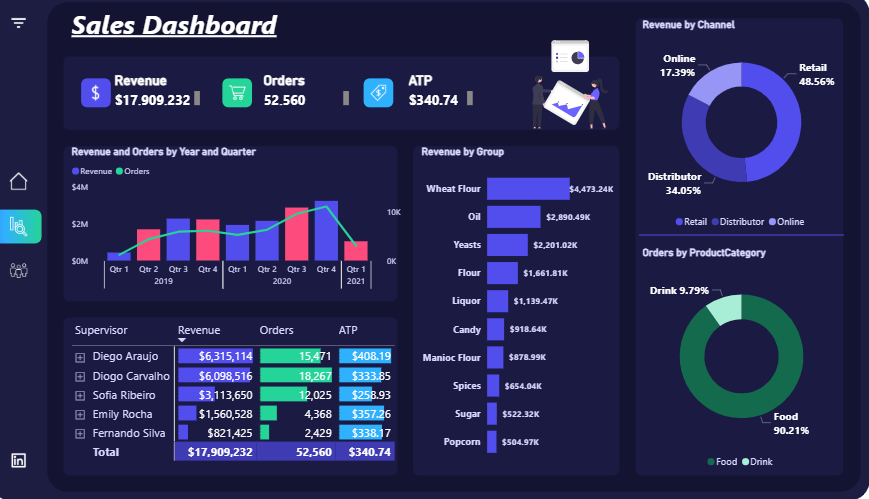

Layout of this report page (visuals, bound fields, positions):
{"tool":"powerbi","page":{"name":"Sales","canvas":[1280,720],"ordinal":0},"visuals":[{"type":"multiRowCard","title":"Revenue","fields":{"Values":["measuer.Revenue"]},"box":[204.9,112.5,131,52.1],"z":0},{"type":"multiRowCard","title":"Orders","fields":{"Values":["measuer.Orders"]},"box":[416.6,112.5,131,52.1],"z":1000},{"type":"multiRowCard","title":"ATP","fields":{"Values":["measuer.ATP"]},"box":[621.5,112.5,100.8,52.1],"z":2000},{"type":"lineClusteredColumnComboChart","fields":{"Category":["dCalen.Date.Variation.Date Hierarchy.Year","dCalen.Date.Variation.Date Hierarchy.Quarter"],"Y":["measuer.Revenue"],"Y2":["measuer.Orders"]},"box":[144.5,216.7,477.1,213.3],"z":3000},{"type":"pivotTable","fields":{"Rows":["dSales person.Supervisor","dSales person.Salesperson"],"Values":["measuer.Revenue","measuer.Orders","measuer.ATP"]},"box":[144.6,457.8,467.7,215.4],"z":4000},{"type":"clusteredBarChart","fields":{"Category":["dGroup.Group"],"Y":["measuer.Revenue"]},"box":[640.6,216.9,282,456.4],"z":5000},{"type":"donutChart","fields":{"Y":["measuer.Revenue"],"Category":["dSales person.Channel"]},"box":[953.9,36.9,290.6,306.1],"z":6000},{"type":"donutChart","fields":{"Y":["measuer.Orders"],"Category":["dProduct.ProductCategory"]},"box":[953.9,360,290.6,323.1],"z":7000},{"type":"shape","box":[953.9,267.9,290.6,150.2],"z":8000},{"type":"actionButton","box":[38.3,360,70.9,56.7],"z":9000},{"type":"textbox","box":[145.3,22.2,449.5,59.8],"z":10000},{"type":"actionButton","title":"ON filter","box":[38.3,21.3,70.3,55.4],"z":11000},{"type":"actionButton","box":[38.3,626.5,70.9,56.7],"z":13000}]}

Visuals, with their boxes in screenshot pixels (x1, y1, x2, y2), scaled from the page's 1280x720 canvas onto the 869x499 screenshot:
"Revenue" multiRowCard: bbox=(139, 78, 228, 114)
"Orders" multiRowCard: bbox=(283, 78, 372, 114)
"ATP" multiRowCard: bbox=(422, 78, 490, 114)
lineClusteredColumnComboChart - dCalen.Date.Variation.Date Hierarchy.Year x dCalen.Date.Variation.Date Hierarchy.Quarter: bbox=(98, 150, 422, 298)
pivotTable - dSales person.Supervisor x dSales person.Salesperson: bbox=(98, 317, 416, 467)
clusteredBarChart - dGroup.Group x measuer.Revenue: bbox=(435, 150, 626, 467)
donutChart - measuer.Revenue x dSales person.Channel: bbox=(648, 26, 845, 238)
donutChart - measuer.Orders x dProduct.ProductCategory: bbox=(648, 250, 845, 473)
shape: bbox=(648, 186, 845, 290)
actionButton: bbox=(26, 250, 74, 289)
textbox: bbox=(99, 15, 404, 57)
"ON filter" actionButton: bbox=(26, 15, 74, 53)
actionButton: bbox=(26, 434, 74, 473)
